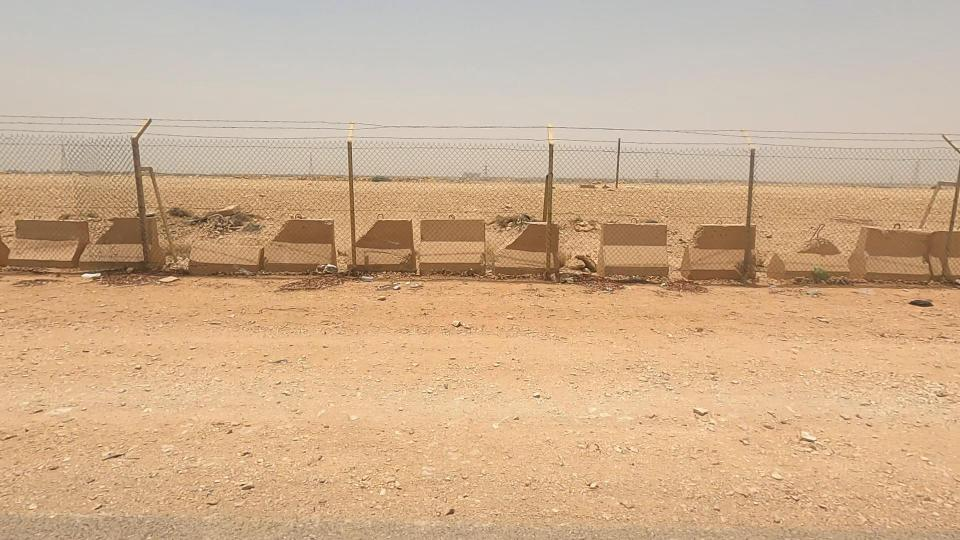GARBAGE: (295, 246, 405, 301), (140, 257, 204, 298), (373, 270, 438, 307), (54, 259, 128, 290)
